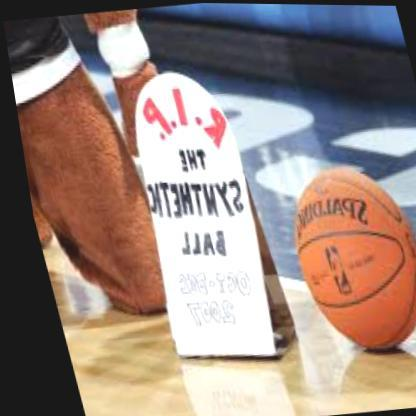basketball: (270, 163, 416, 354)
